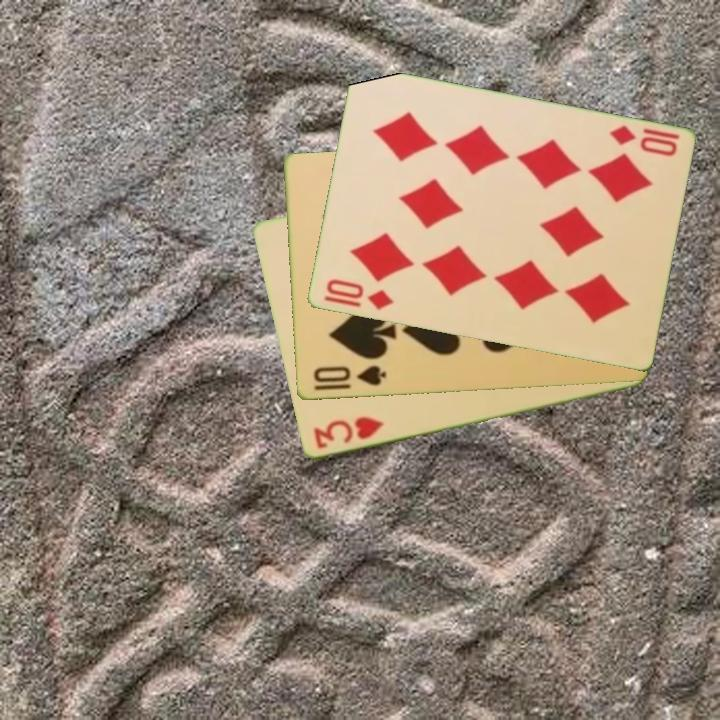10d: (605, 122, 682, 160), (322, 276, 396, 313)
10s: (309, 362, 389, 394)
3h: (309, 413, 387, 452)
